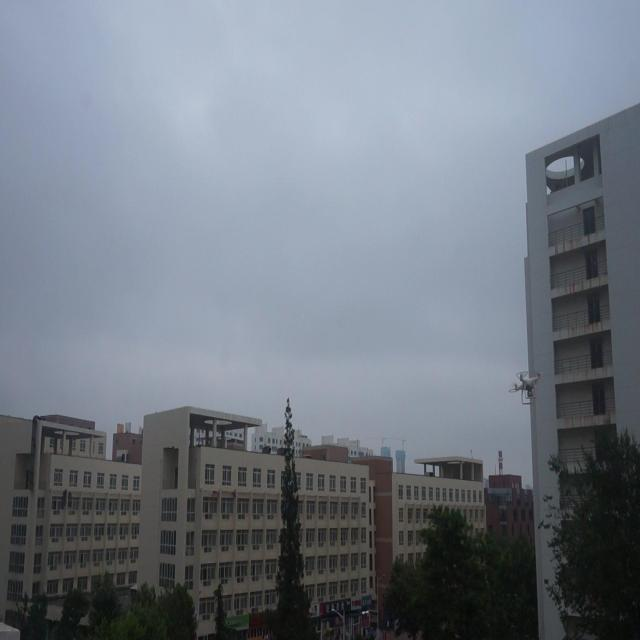drone: (506, 369, 544, 407)
